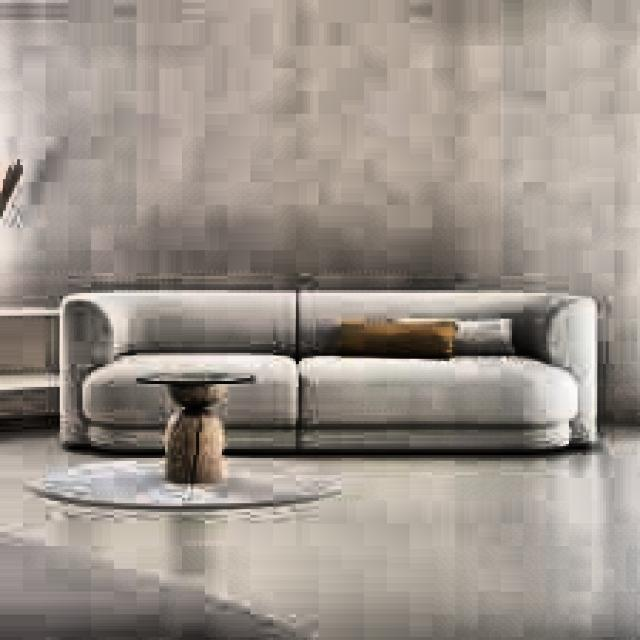sofa: (51, 282, 617, 449)
